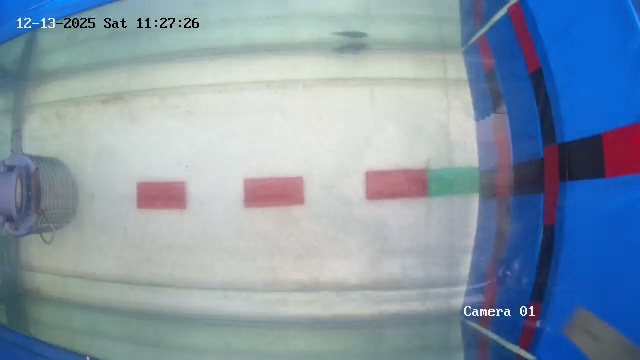fish: (300, 33, 335, 89)
